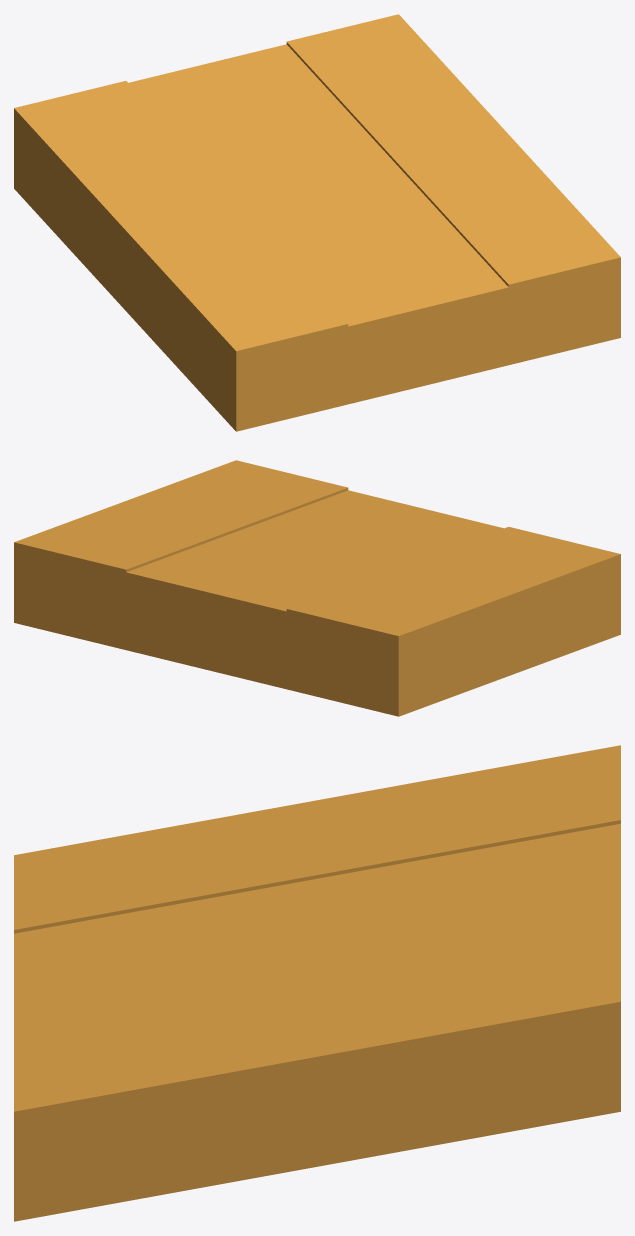
Rendered from tile-mainroad-hill.glb.
3 views of the same model, one above another, from view 1: azimuth 30°, elevation 25°; view 2: azimuth 150°, elevation 25°; view 3: azimuth 270°, elevation 25° (orthographic). The views are drawn at different scales.
Visible parts, largest first — view 1: tile-mainroad-hill; view 2: tile-mainroad-hill; view 3: tile-mainroad-hill.
Part boxes in pixels (x1,y1,x2,y2): tile-mainroad-hill: (14, 14, 620, 431); tile-mainroad-hill: (14, 460, 620, 716); tile-mainroad-hill: (14, 745, 620, 1221).
Size of the model in its own units: 30 by 12 by 30.
